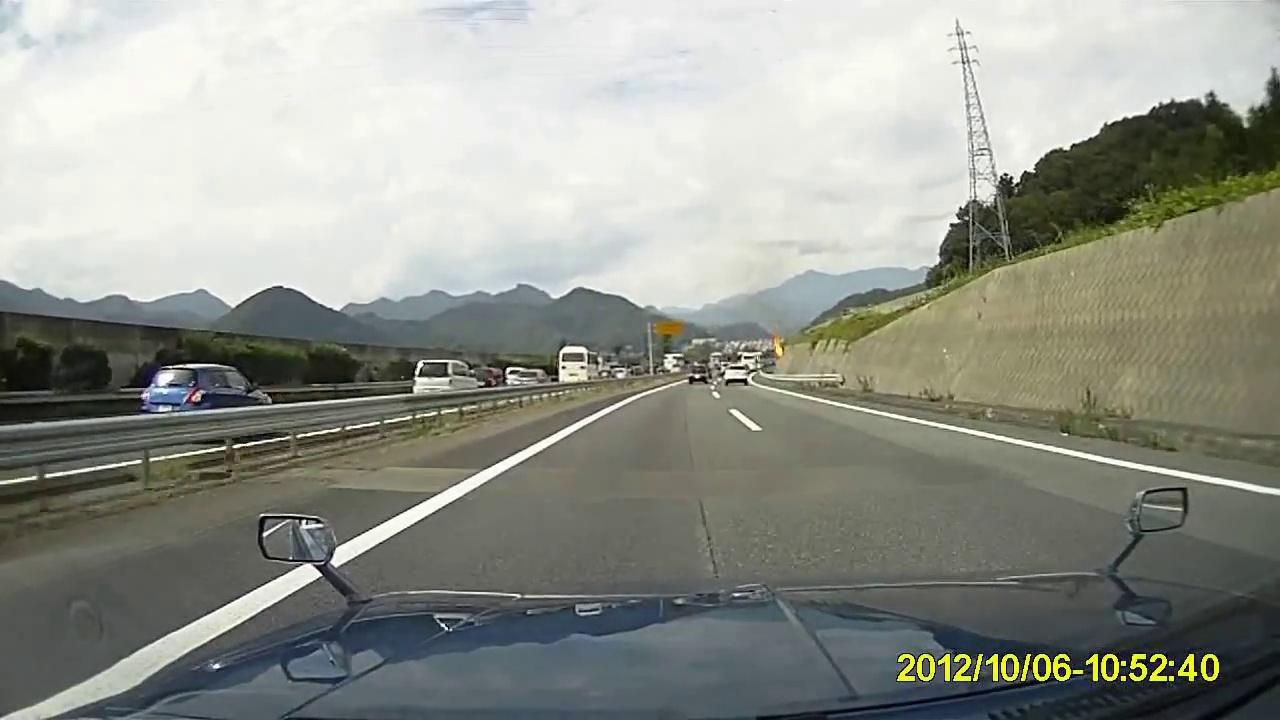fire: (771, 336, 784, 356)
